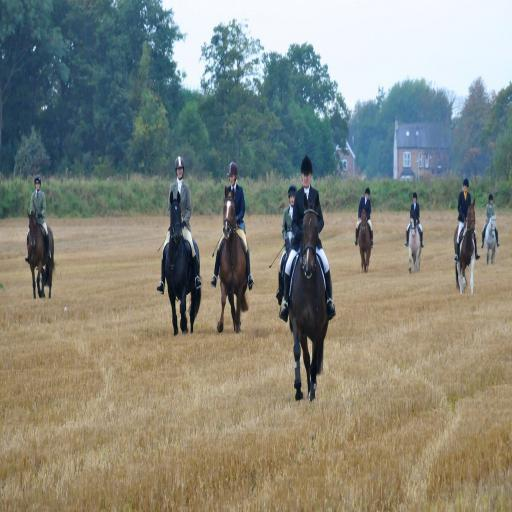horse: (286, 189, 330, 400), (162, 188, 202, 334), (214, 180, 249, 331), (26, 207, 56, 300), (454, 197, 477, 295), (356, 206, 372, 272), (406, 209, 421, 274), (278, 251, 296, 296), (482, 212, 498, 262)
